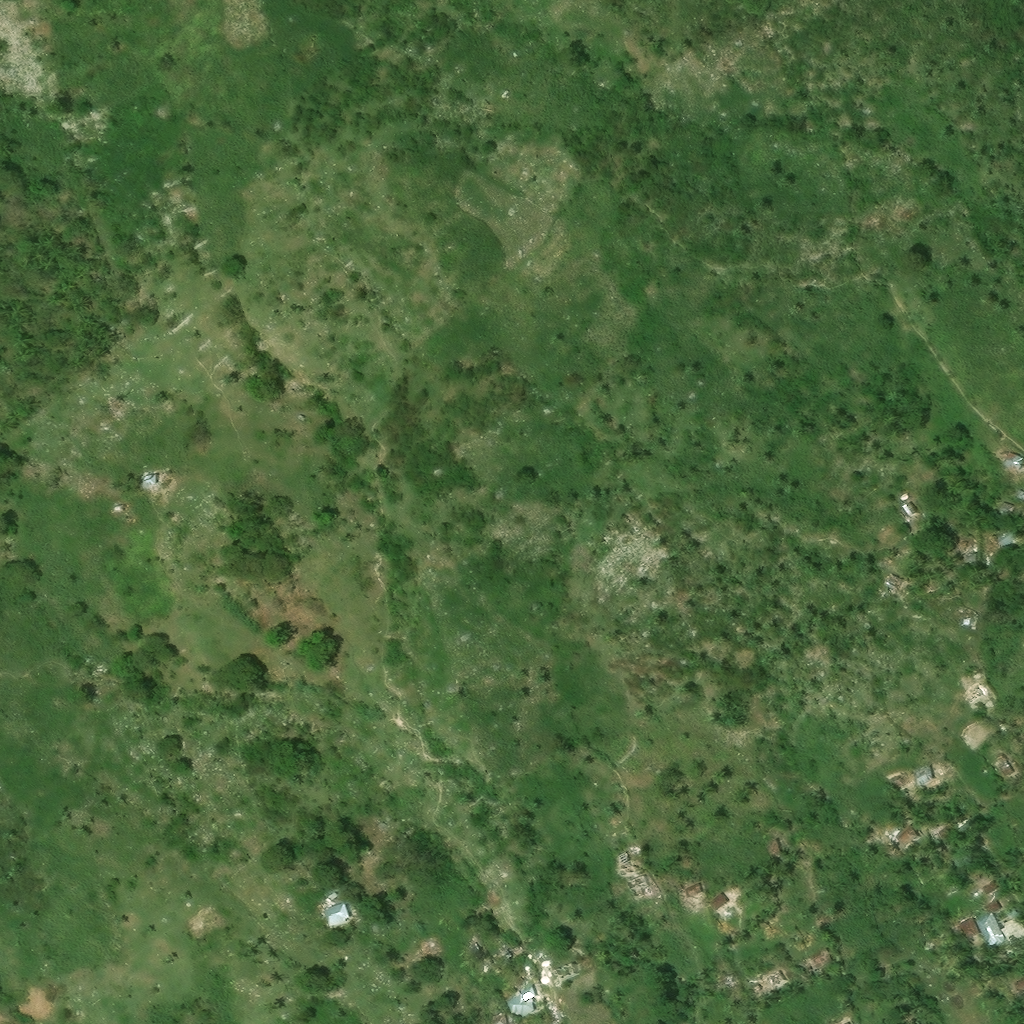destroyed: (821, 954, 847, 977), (893, 578, 914, 597), (626, 865, 643, 880), (397, 954, 413, 969), (641, 887, 658, 899), (907, 778, 922, 791), (412, 940, 425, 955), (468, 939, 481, 953), (733, 982, 745, 991), (537, 977, 544, 985), (523, 981, 530, 988)
major_damage: (526, 985, 544, 1003), (777, 976, 794, 995), (970, 554, 983, 567)
minor_damage: (919, 770, 942, 791), (999, 532, 1020, 554), (695, 890, 714, 905), (1005, 766, 1020, 782), (1003, 504, 1020, 518), (493, 1014, 511, 1023)
no_damage: (512, 998, 548, 1023), (1002, 919, 1023, 957), (982, 917, 1008, 946), (899, 826, 926, 853), (959, 853, 983, 878), (965, 919, 986, 942), (721, 900, 741, 919), (769, 841, 788, 861), (943, 826, 962, 843), (989, 902, 1006, 917), (989, 884, 1005, 899)
unclassified: (998, 943, 1018, 964), (903, 559, 921, 582)
